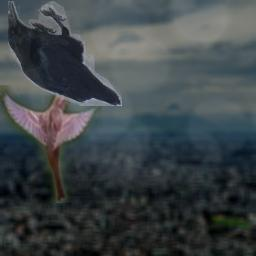Crow: (8, 1, 122, 106)
Sparrow: (0, 85, 102, 203)
